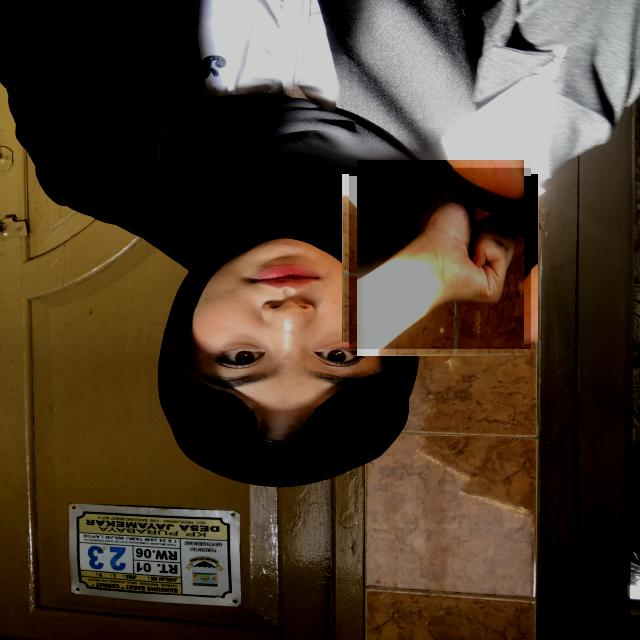ibu: (349, 166, 531, 348)
